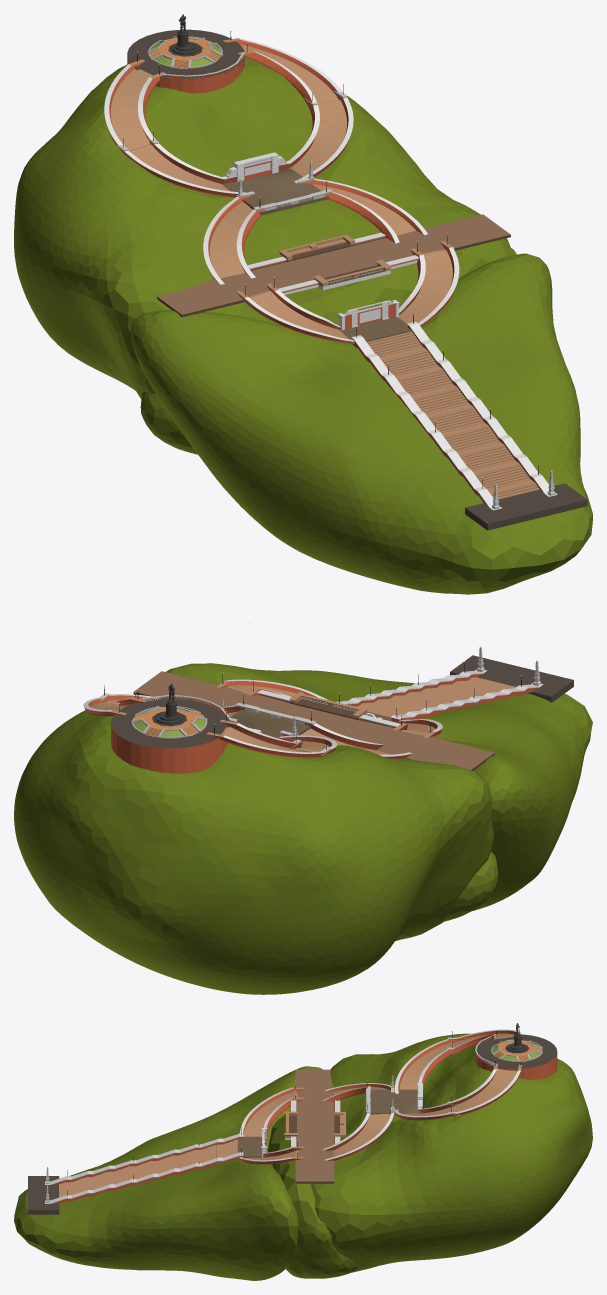
Rendered from lestnica3.fbx.
3 renders of one model, top to bottom at view 1: azimuth 30°, elevation 25°; view 2: azimuth 150°, elevation 25°; view 3: azimuth 270°, elevation 25°, orthographic. The views are drawn at different scales.
Parts seen in each view (by area): view 1: Икосфера.001; view 2: Икосфера.001; view 3: Икосфера.001.
Part boxes in pixels (x1,y1,x2,y2): Икосфера.001: (14,14,592,594); Икосфера.001: (14,623,592,994); Икосфера.001: (14,1023,592,1280).
Size of the model in its own units: 3288 by 2835 by 5998.
